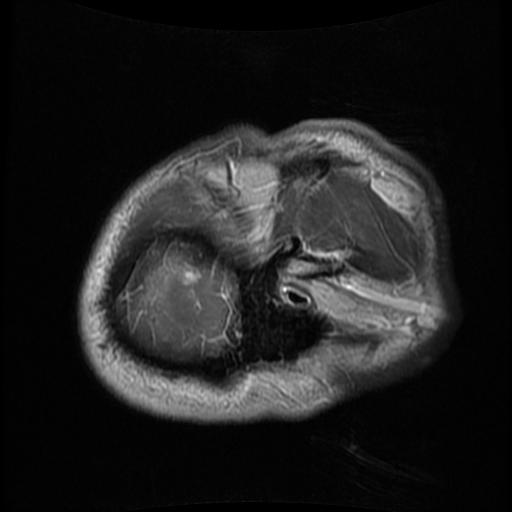glioma: (181, 264, 205, 288)
